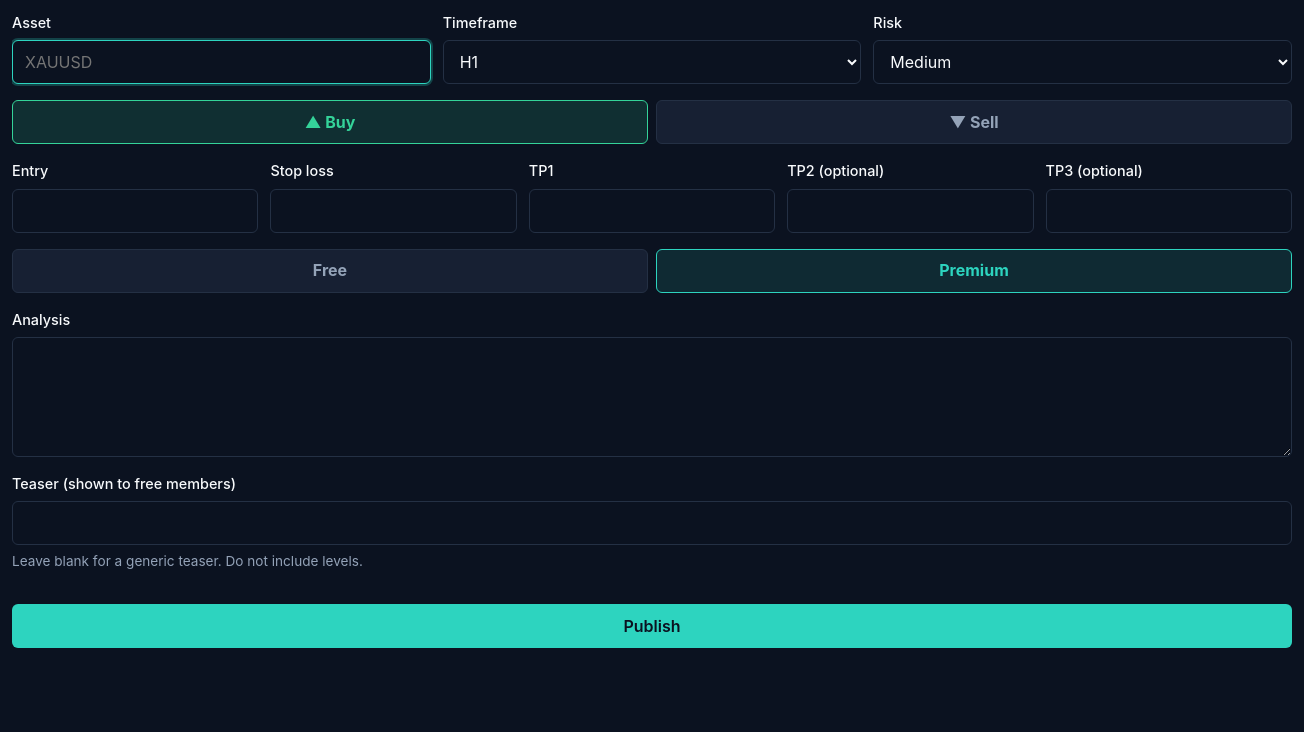
SignalForm (fast posting) › only offers a teaser field for premium signals
Expected: the field labelled "Teaser (shown to free members)" is shown, [12,501,1292,545]
Click the button "Free" at [330, 271], box [12,249,648,293]
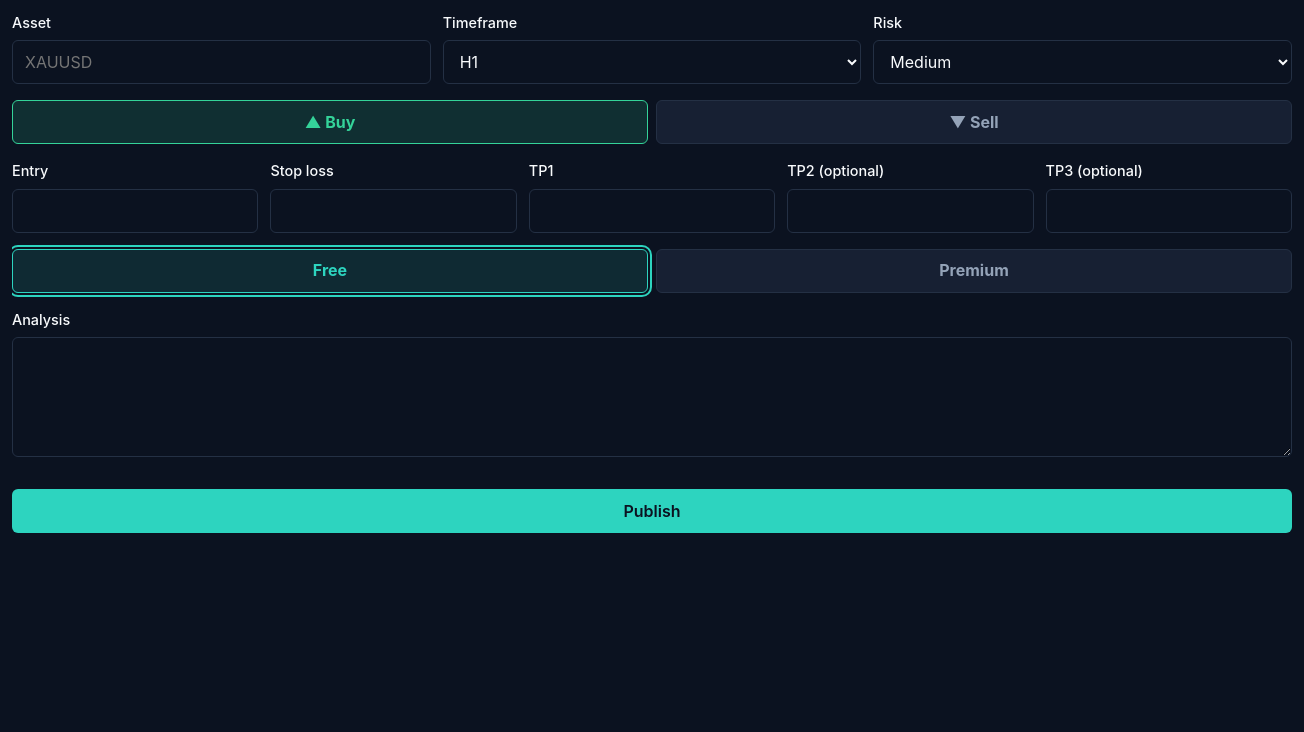
Expected: the label labelled "Teaser" is gone
